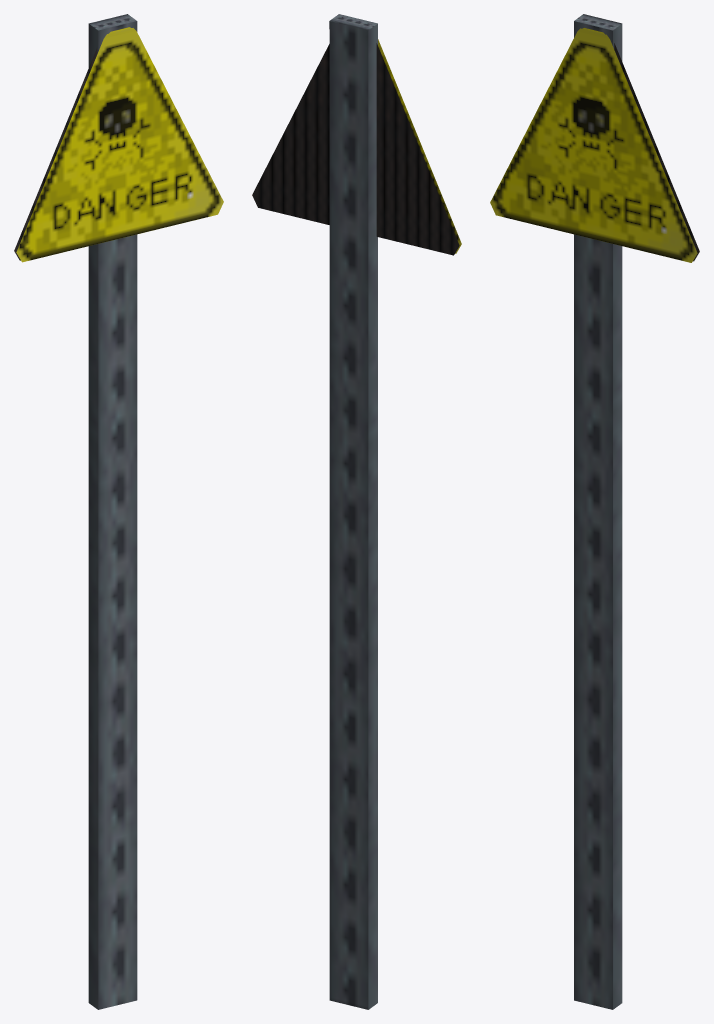
Rendered from BLOCKYGON_SIGN(DANGER).fbx.
3 renders of one model, left to right at view 1: azimuth 30°, elevation 25°; view 2: azimuth 150°, elevation 25°; view 3: azimuth 330°, elevation 25°, orthographic.
Visible parts, largest first — view 1: BLOCKYGON_SIGN_DANGER_; view 2: BLOCKYGON_SIGN_DANGER_; view 3: BLOCKYGON_SIGN_DANGER_.
Part boxes in pixels (left/top/right/bottom): BLOCKYGON_SIGN_DANGER_: left=14, top=14, right=223, bottom=1009; BLOCKYGON_SIGN_DANGER_: left=252, top=14, right=461, bottom=1009; BLOCKYGON_SIGN_DANGER_: left=490, top=14, right=699, bottom=1009.
Bounding box in the file's own units: 48.49 × 219 × 4.32.
